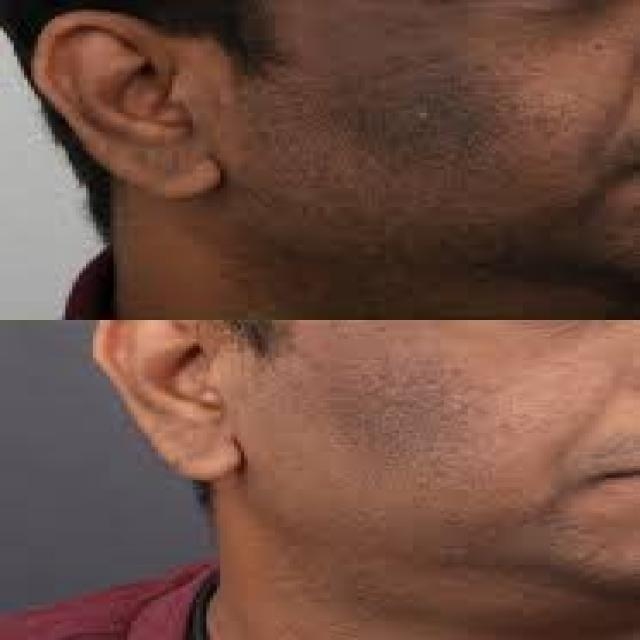pigmentation: (335, 86, 520, 186), (318, 370, 481, 455)
